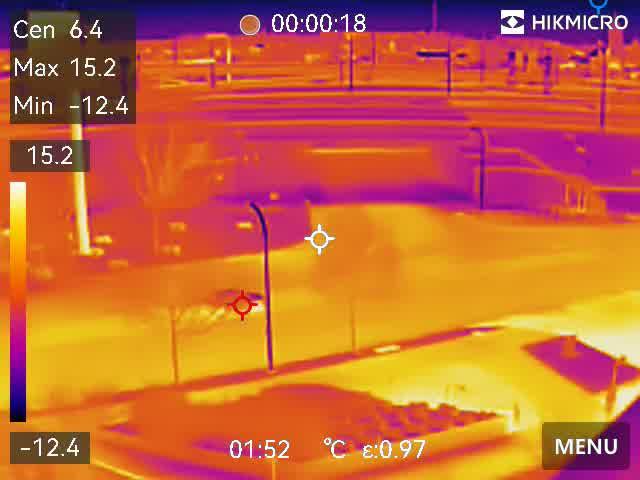vehicle: (206, 287, 269, 314)
